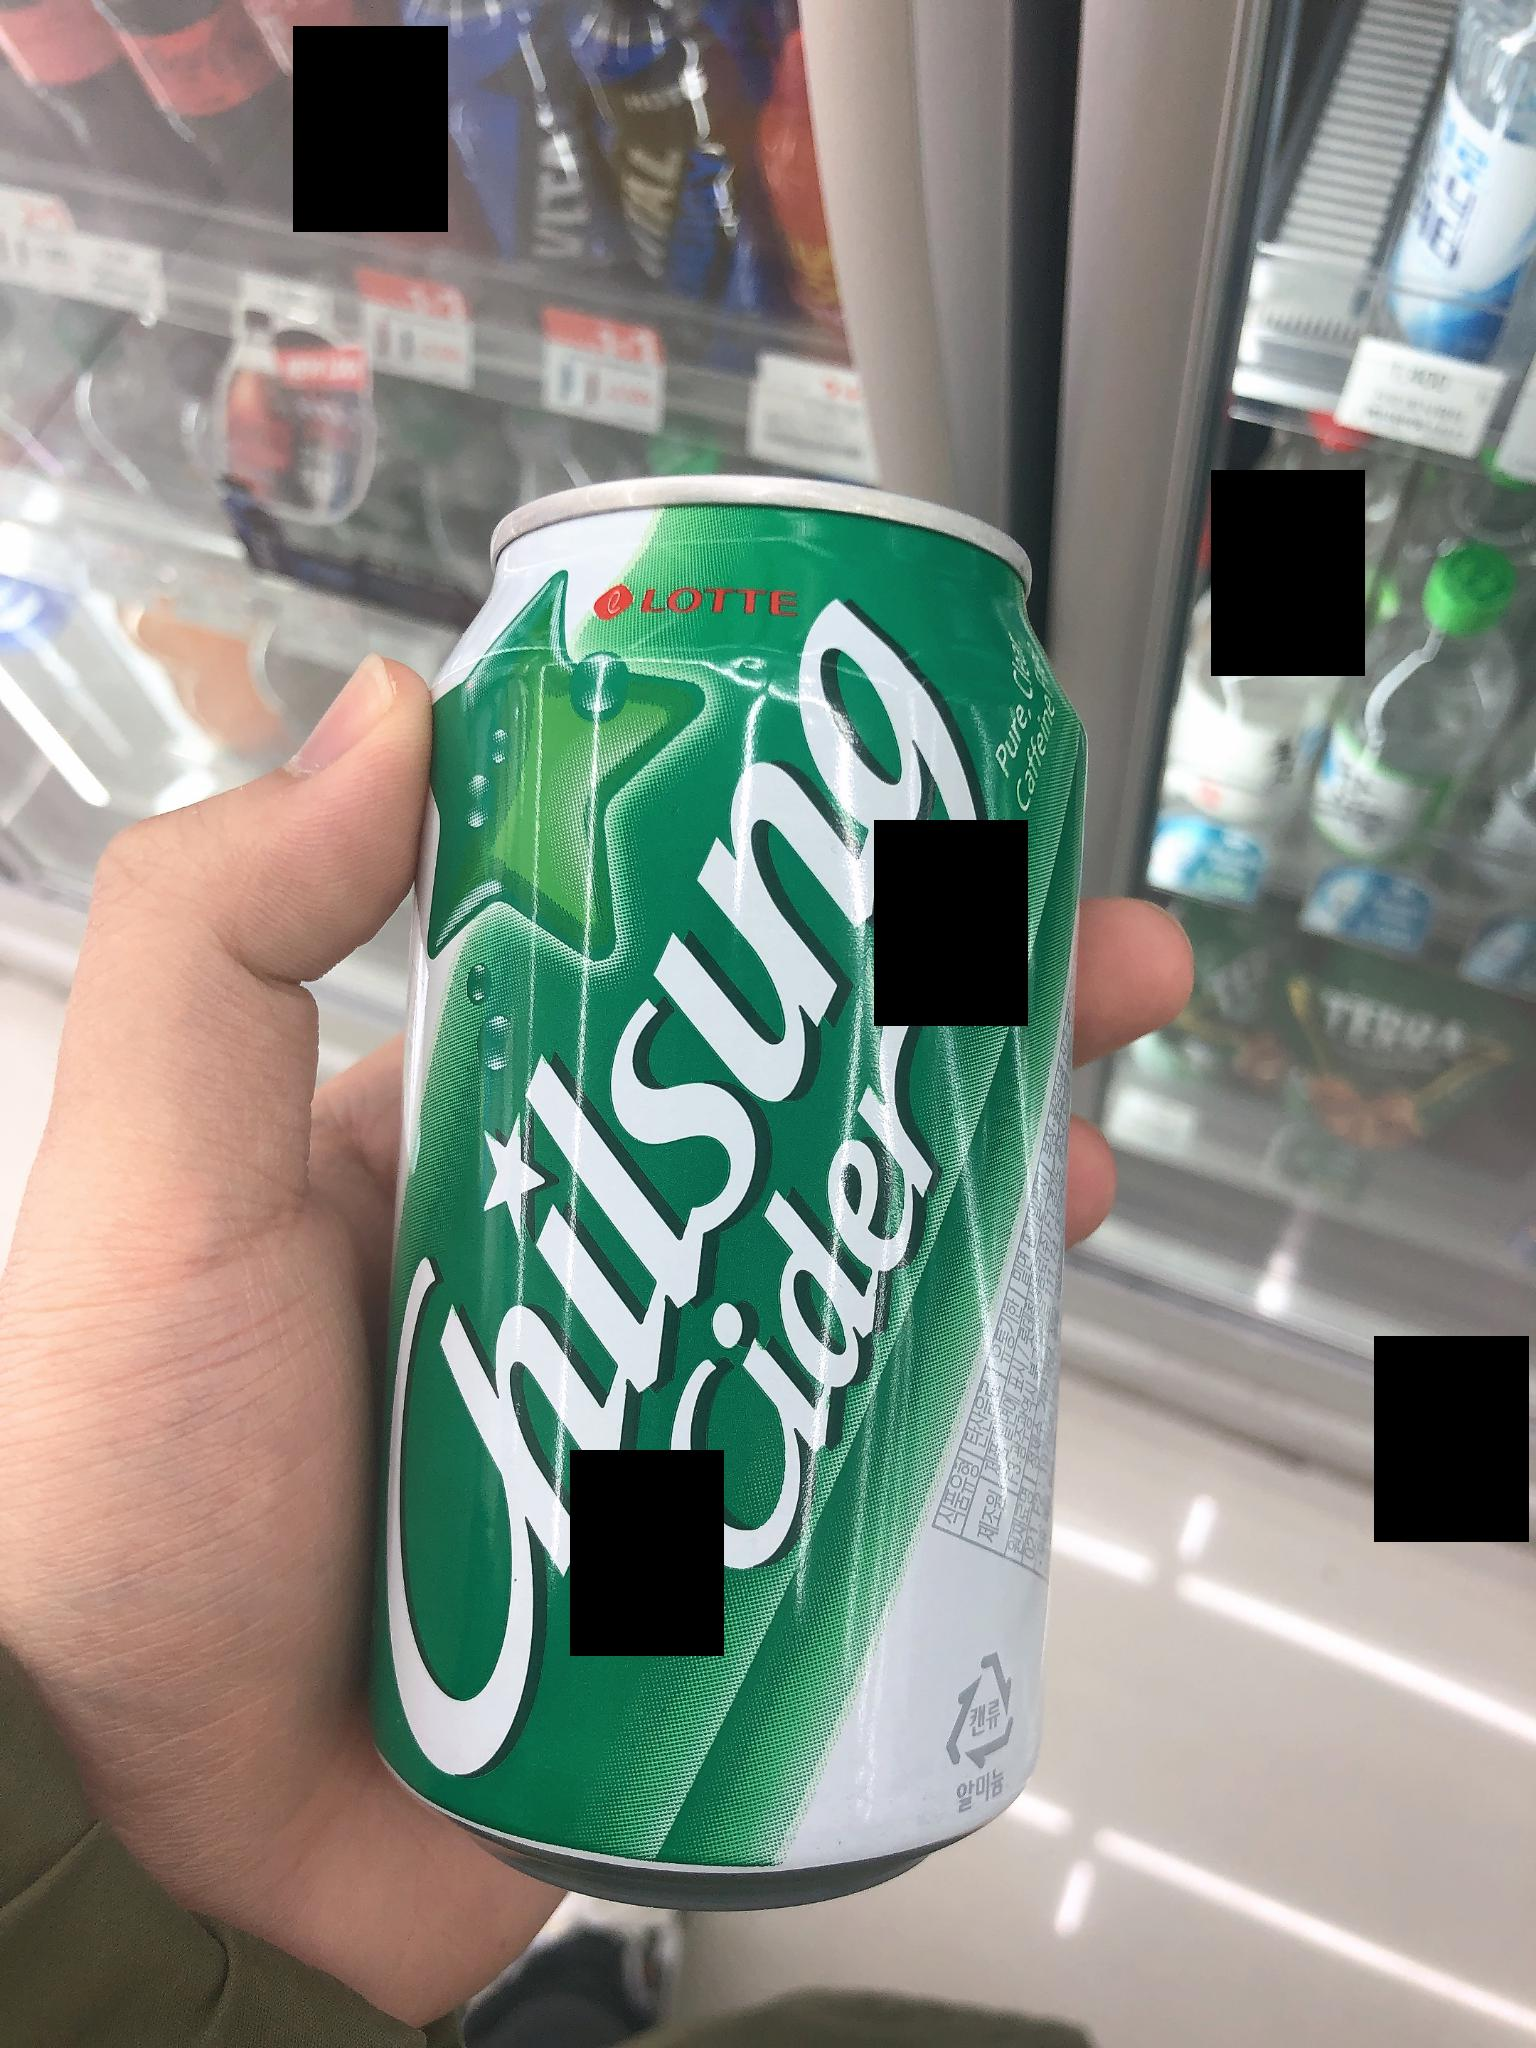chilsungcider: (313, 292, 1079, 1922)
